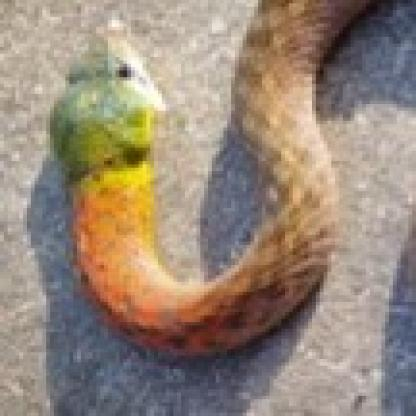snakes: (52, 0, 363, 354)
